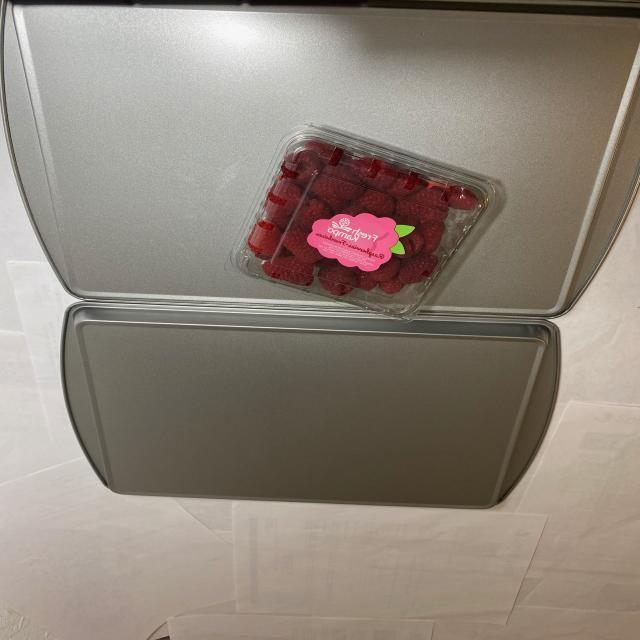raspberries: (248, 153, 483, 294)
